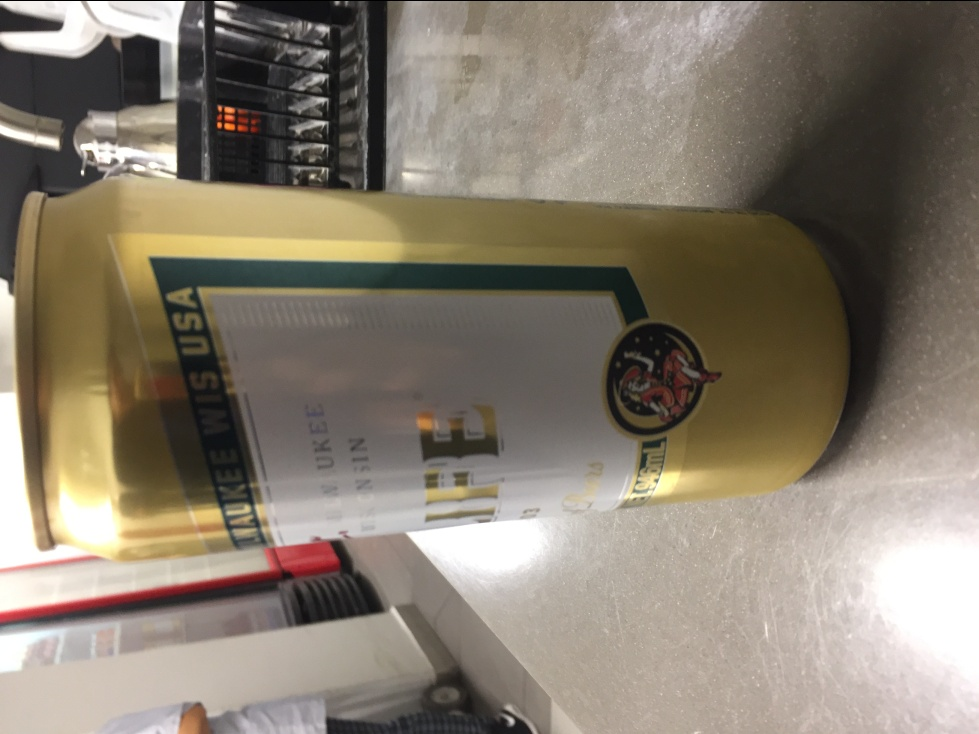miller: (10, 177, 857, 570)
